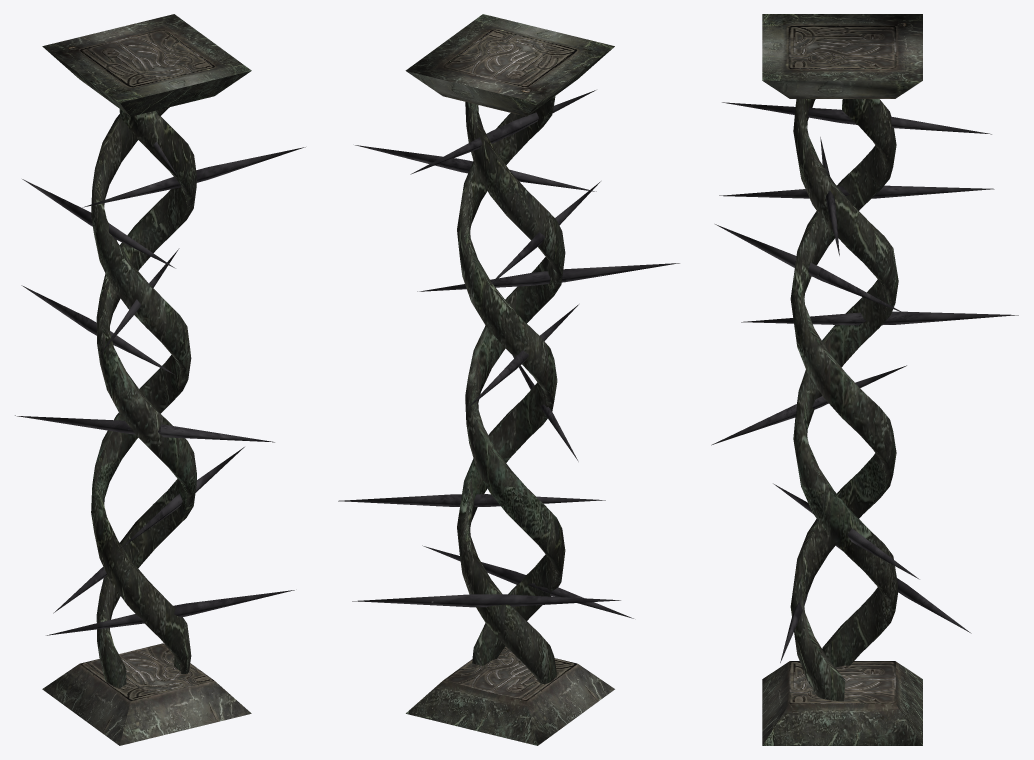
The model's file is THORNPILLAR.obj.
3 renders of one model, left to right at view 1: azimuth 30°, elevation 25°; view 2: azimuth 150°, elevation 25°; view 3: azimuth 270°, elevation 25°, orthographic. The views are drawn at different scales.
Parts seen in each view (by area): view 1: Group; view 2: Group; view 3: Group.
Boxes of the visible parts, <box> form: Group: <box>15,14,305,745</box>; Group: <box>338,14,679,745</box>; Group: <box>711,14,1018,745</box>.
Bounding box in the file's own units: 22.65 × 51.07 × 21.57.
